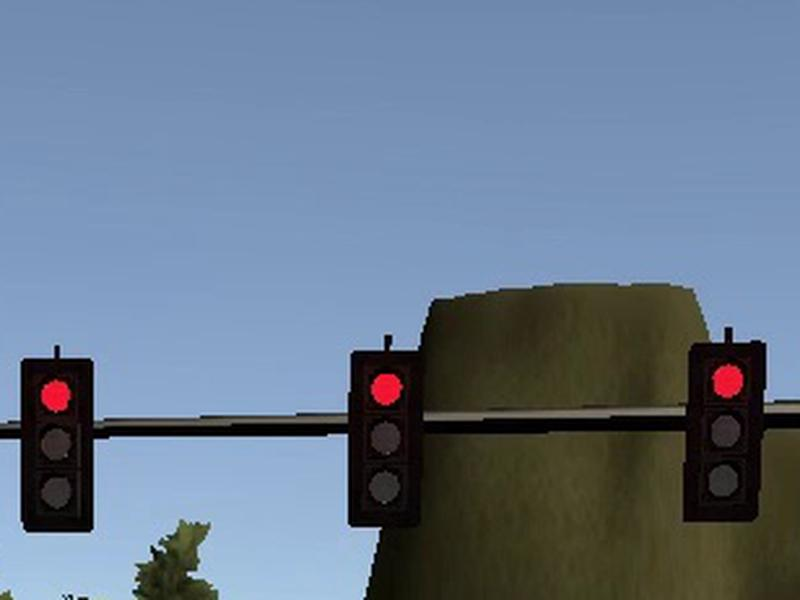Red: (683, 341, 768, 528), (344, 352, 425, 531), (22, 359, 94, 533)
